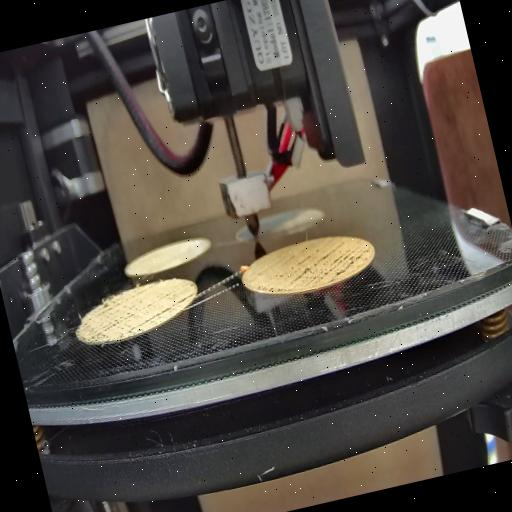under_extrusion: (252, 238, 375, 296), (80, 288, 164, 346), (158, 286, 196, 316)
